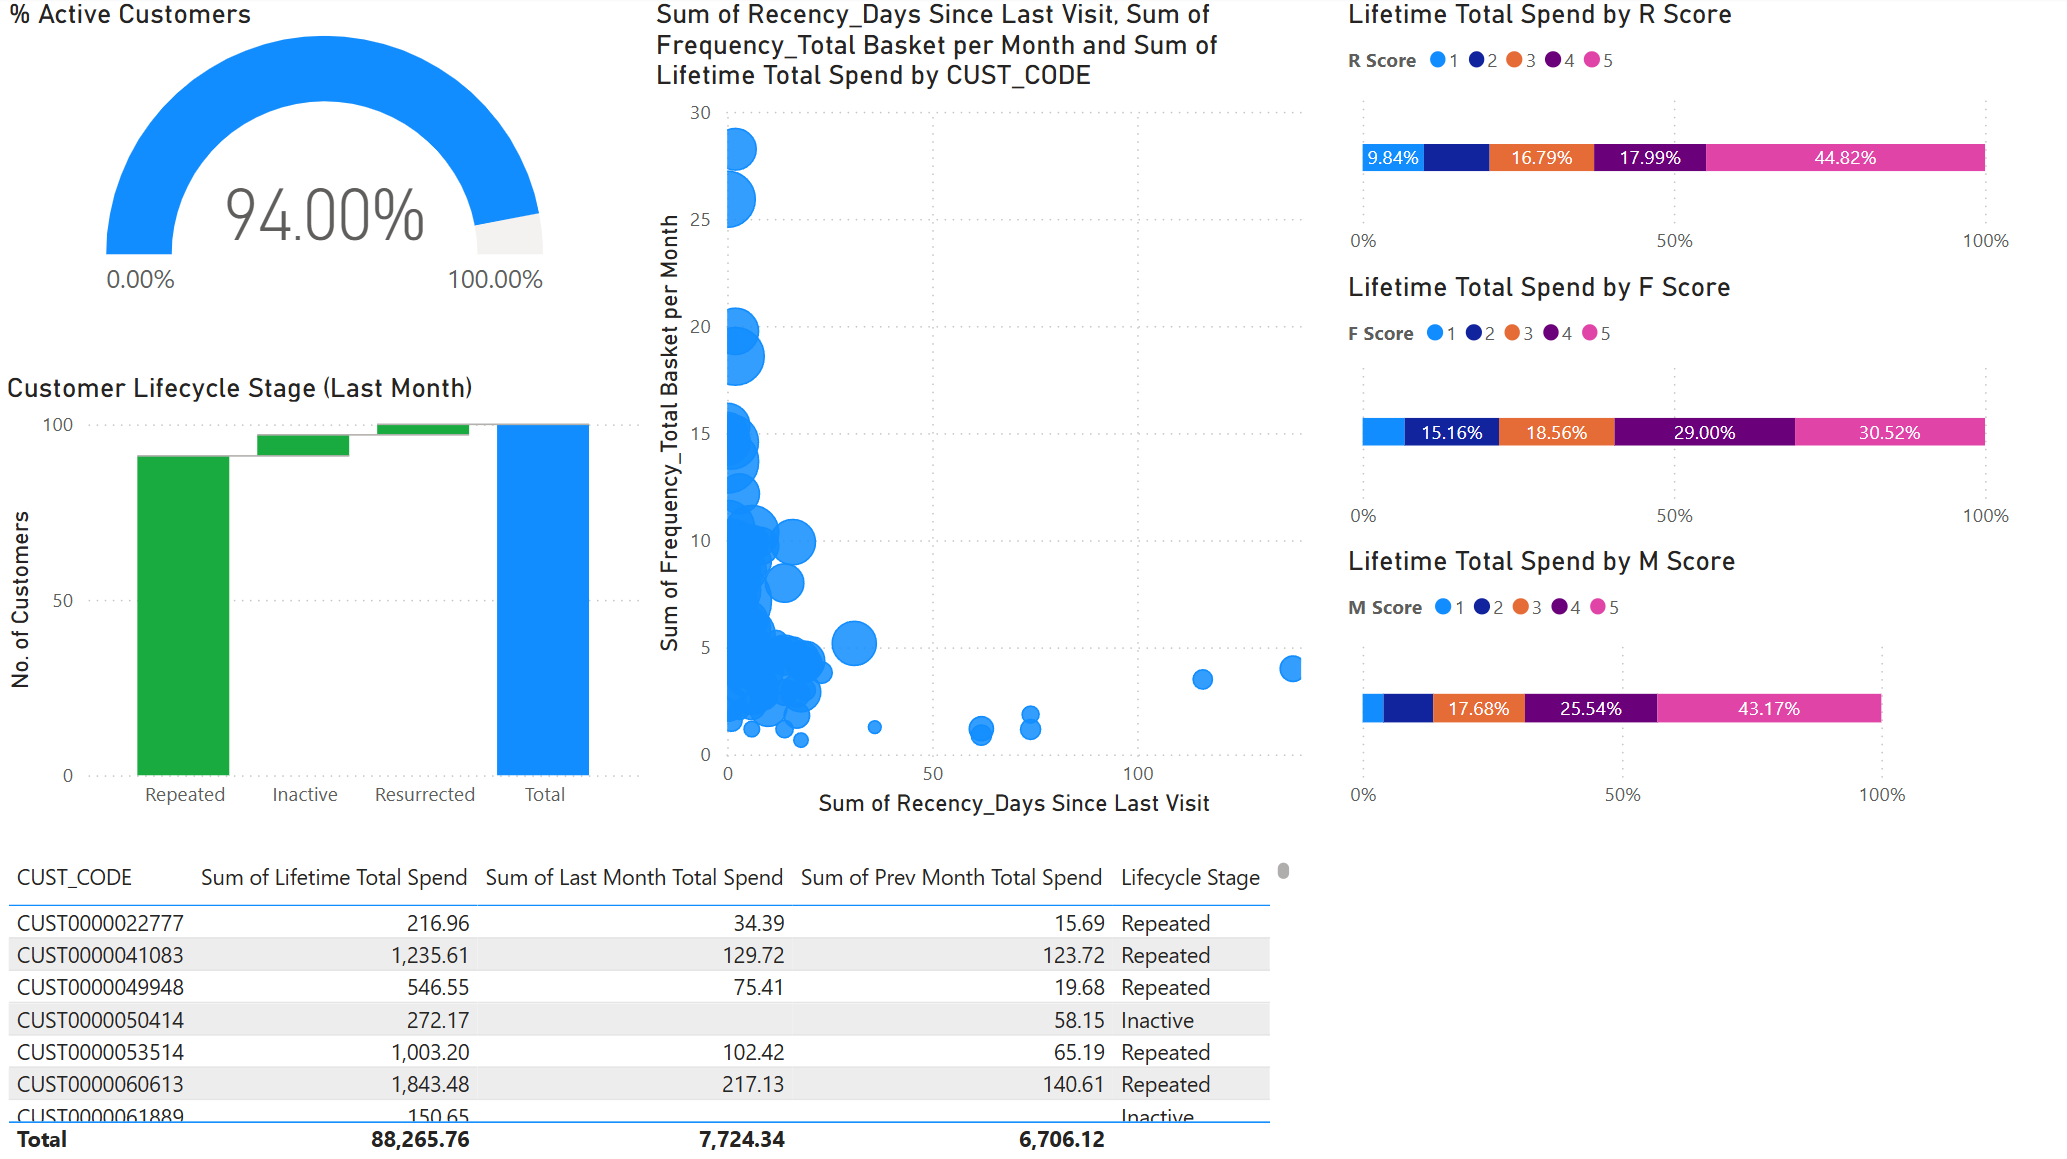

The dashboard page shown, as its layout file describes it:
{"tool":"powerbi","page":{"name":"Customer Overview","canvas":[1280,720],"ordinal":3},"visuals":[{"type":"tableEx","fields":{"Values":["Customers.CUST_CODE","Sum(Customers.Lifetime Total Spend)","Sum(Customers.Last Month Total Spend)","Sum(Customers.Prev Month Total Spend)","Customers.Lifecycle Stage"]},"box":[0,529.6,804.1,191],"z":0},{"type":"waterfallChart","title":"Customer Lifecycle Stage (Last Month)","fields":{"Category":["Customers.Lifecycle Stage"],"Y":["CountNonNull(Customers.CUST_CODE)"]},"box":[0,231.2,402.8,280.5],"z":1000},{"type":"gauge","fields":{"Y":["Customers.% Active Customers"]},"box":[1.5,0,401.3,195.4],"z":2000},{"type":"scatterChart","fields":{"X":["Sum(Customers.Recency_Days Since Last Visit)"],"Category":["Customers.CUST_CODE"],"Y":["Sum(Customers.Frequency_Total Basket per Month)"],"Size":["Sum(Customers.Lifetime Total Spend)"]},"box":[401.3,0,419.2,511.7],"z":3000},{"type":"barChart","title":"Lifetime Total Spend by R Score","fields":{"Series":["Customers.R Score"],"Y":["Sum(Customers.Lifetime Total Spend)"]},"box":[829.5,0,419.2,168.6],"z":4000},{"type":"barChart","fields":{"Series":["Customers.F Score"],"Y":["Sum(Customers.Lifetime Total Spend)"]},"box":[829.5,168.6,419.2,170.1],"z":5000},{"type":"barChart","fields":{"Series":["Customers.M Score"],"Y":["Sum(Customers.Lifetime Total Spend)"]},"box":[829.5,338.6,419.2,173.1],"z":6000}]}

Visuals, with their boxes in screenshot pixels (x1, y1, x2, y2), scaled from the page's 1280x720 canvas onto the 2067x1159 screenshot:
tableEx - Customers.CUST_CODE x Sum(Customers.Lifetime Total Spend): 0,853,1298,1158
"Customer Lifecycle Stage (Last Month)" waterfallChart: 0,372,650,824
gauge - Customers.% Active Customers: 2,0,650,315
scatterChart - Sum(Customers.Recency_Days Since Last Visit) x Customers.CUST_CODE: 648,0,1325,824
"Lifetime Total Spend by R Score" barChart: 1340,0,2016,271
barChart - Customers.F Score x Sum(Customers.Lifetime Total Spend): 1340,271,2016,545
barChart - Customers.M Score x Sum(Customers.Lifetime Total Spend): 1340,545,2016,824
